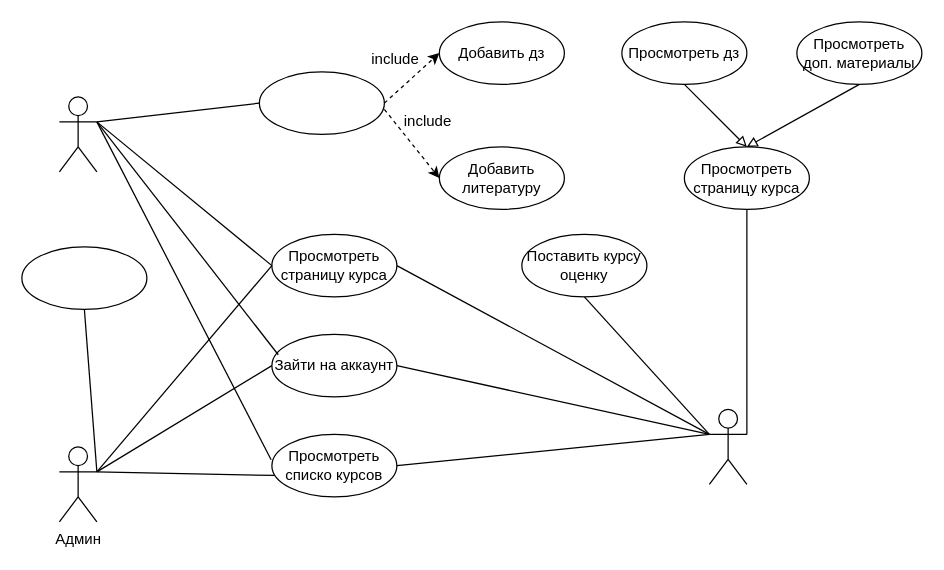
This 944x570 diagram has some shape labels left out. Here are the shapes that lost their labels. From the top down, the centre of each, then its label:
point (321, 102): Добавить файл
point (77, 134): Препод
point (84, 277): Редактирование курсов
point (727, 446): Студент
